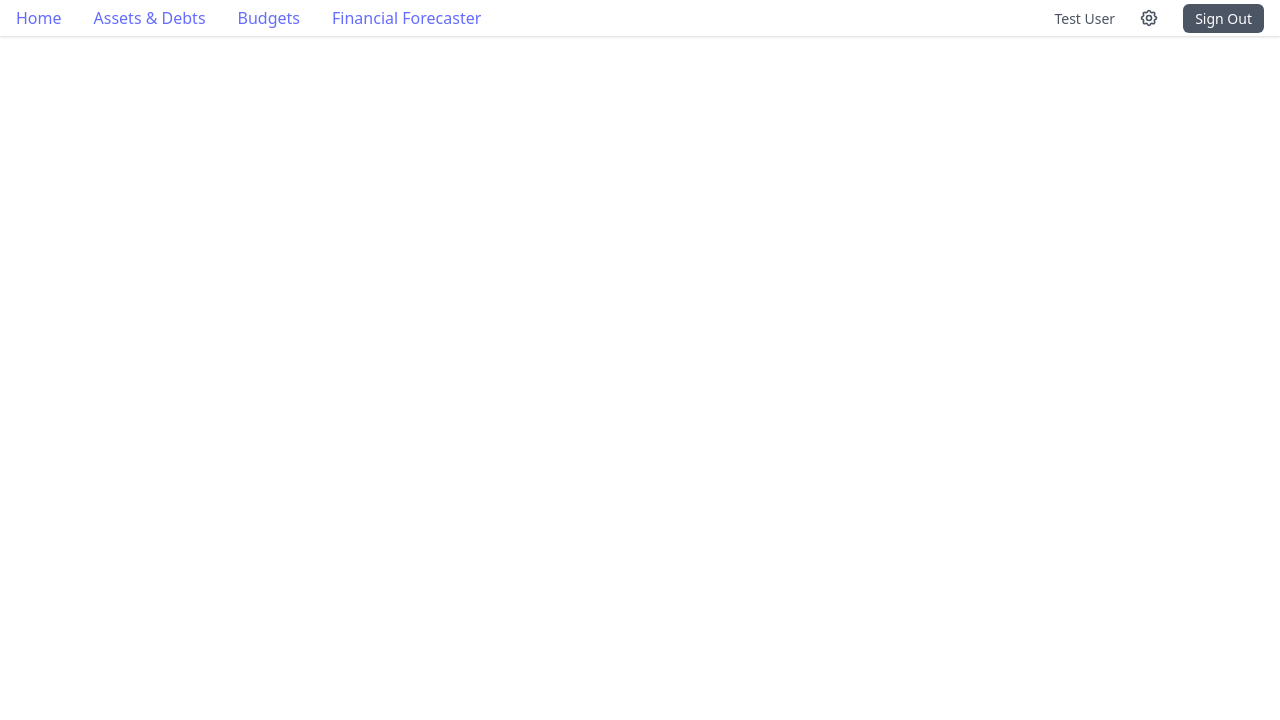
Test case: Nav Component › opens settings modal when settings button is clicked
Click the button titled "Settings": (1149, 18) [1131,0,1167,36]
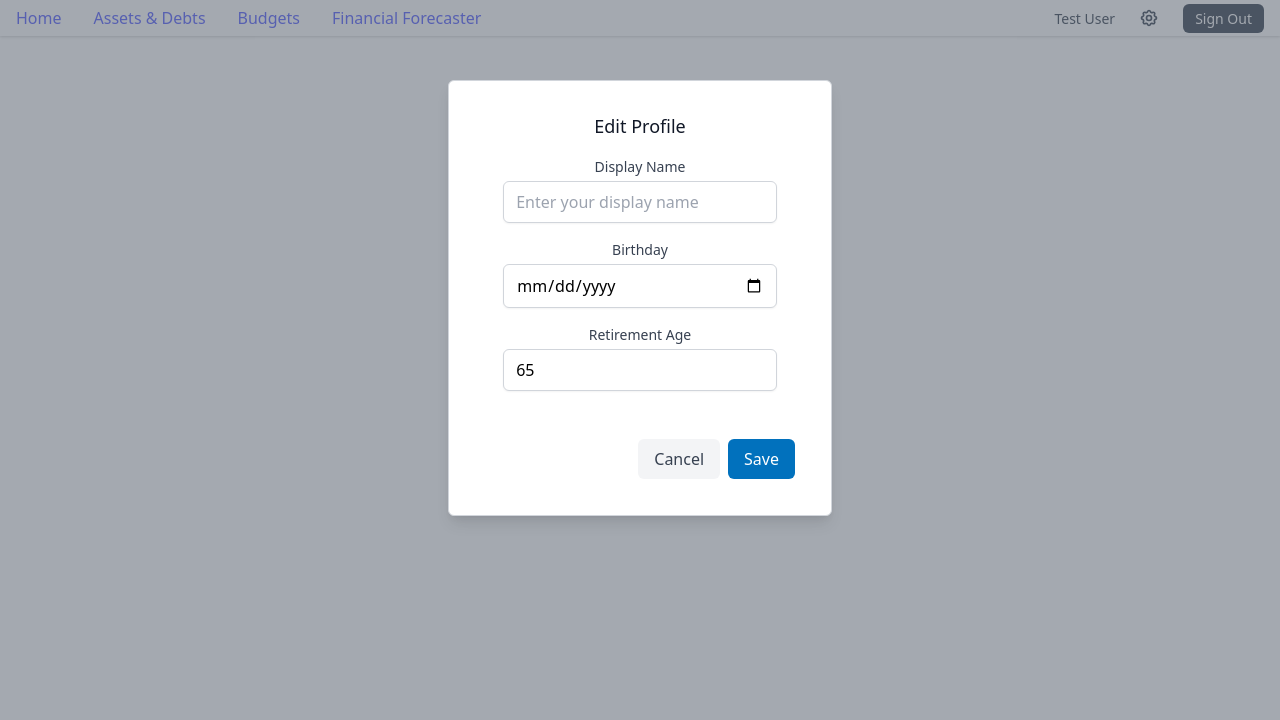
Expected: the heading "Edit Profile" is shown, [594,114,686,138]
